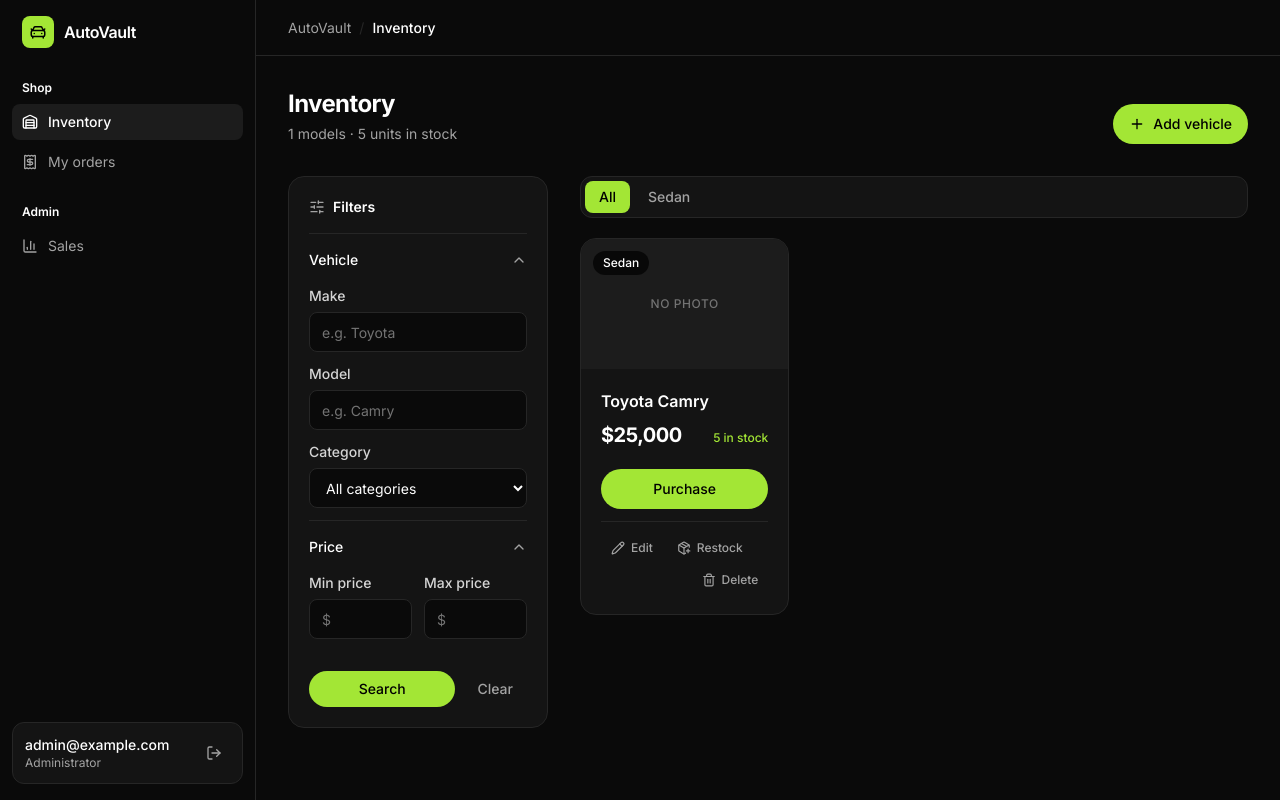
Test: admin restocks a vehicle and the stock updates
This screenshot has width=1280, height=800.
Click the button "Restock" at (710,548), box [667,534,753,562]
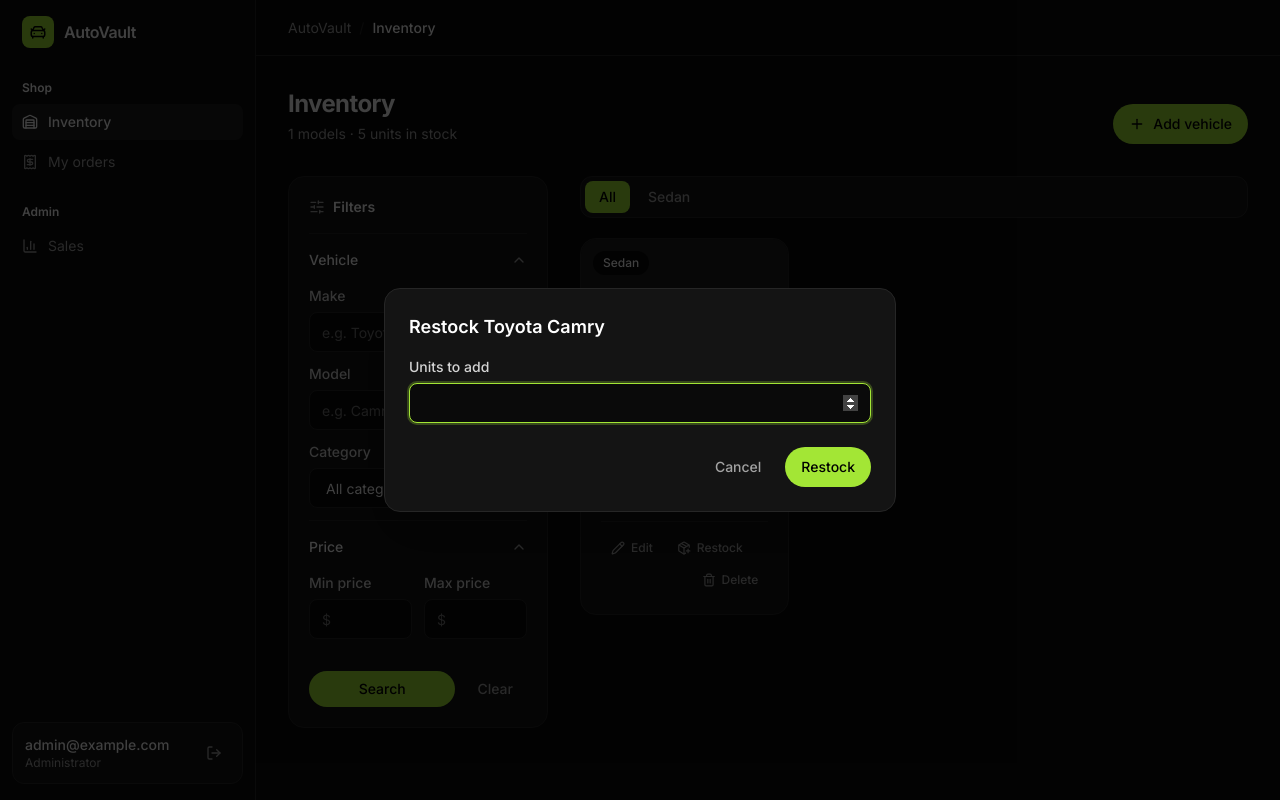
Type "4" into the number field labelled "Units to add" at (640,403), box [409,383,871,423]
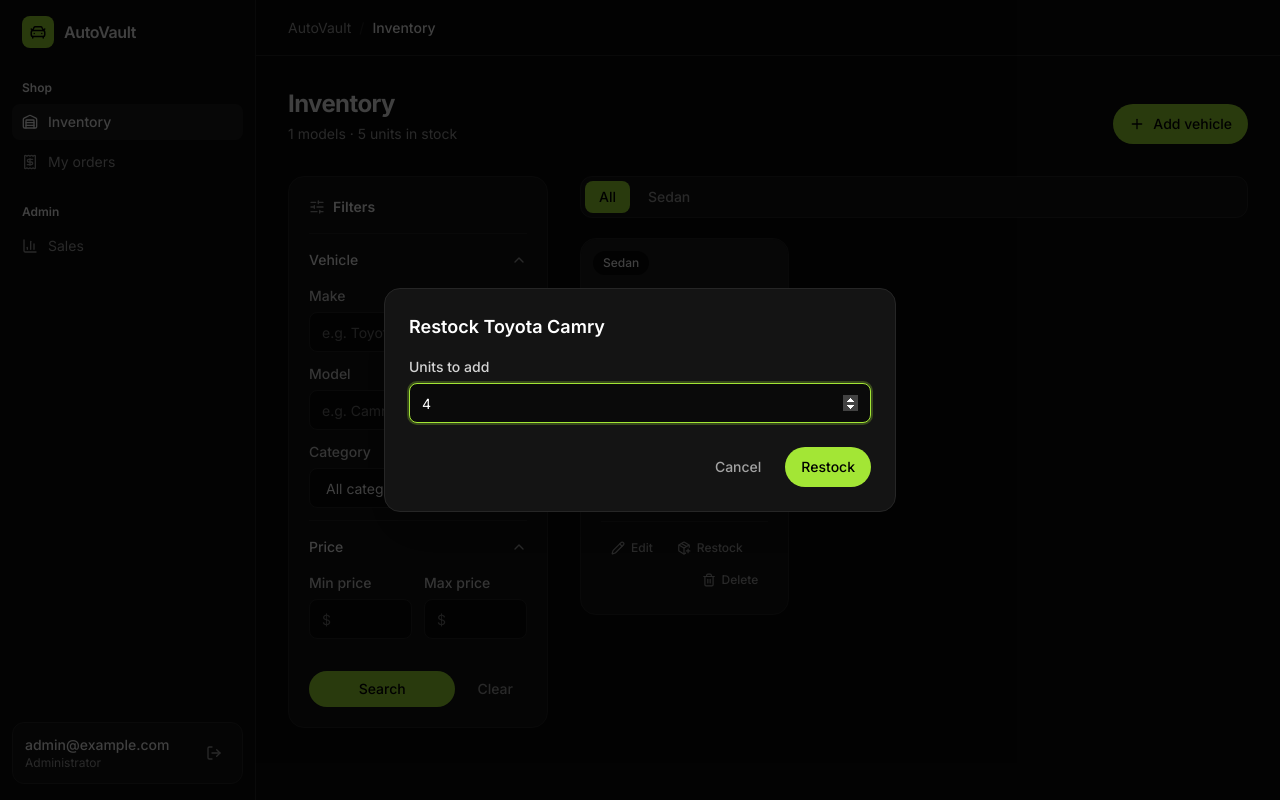
Click the button "Restock" at (828,467), box [785,447,871,487]
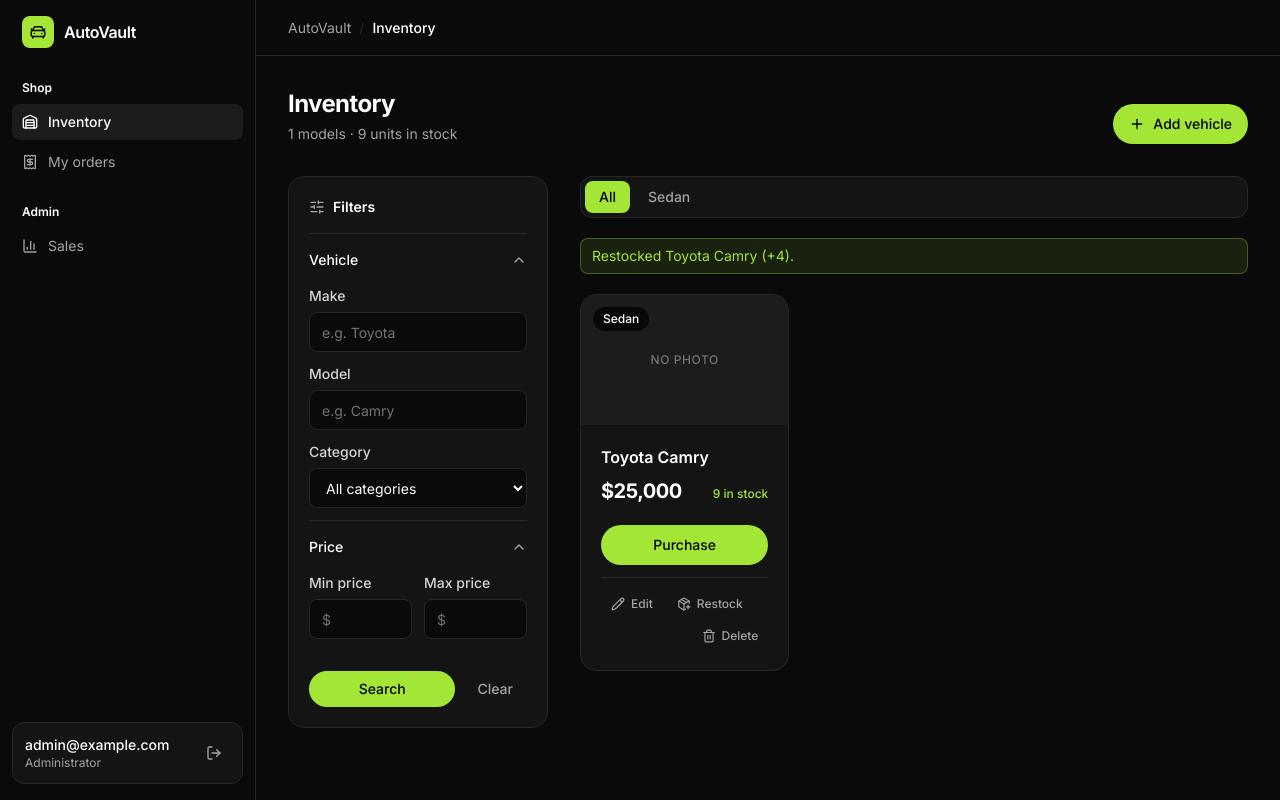
Now the element "Toyota Camry" shows "9 in stock", box [713,486,768,501]
